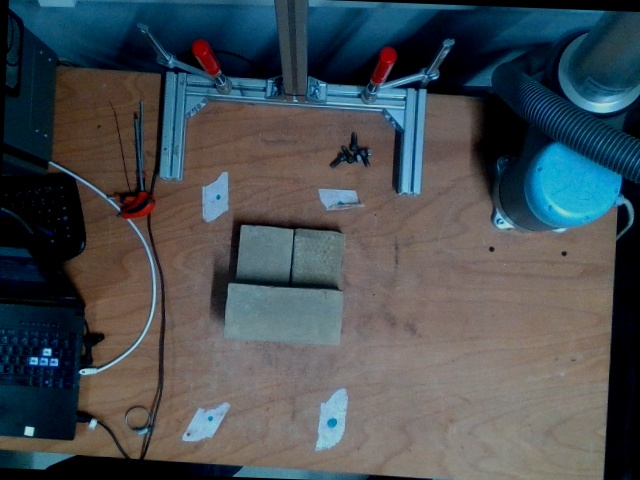brick: (223, 283, 345, 345)
